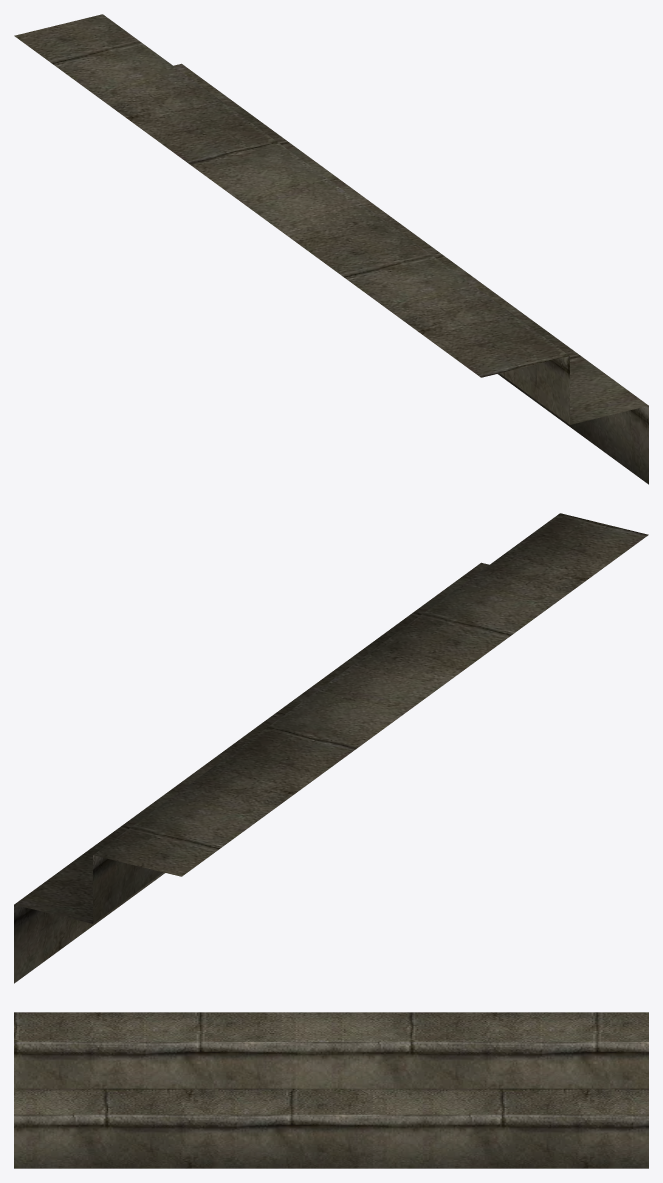
Rendered from OC_LOB_STAIRS_02.glb.
The picture shows the model from 3 angles, top to bottom: view 1: azimuth 30°, elevation 25°; view 2: azimuth 150°, elevation 25°; view 3: azimuth 270°, elevation 25°; orthographic projection. The views are drawn at different scales.
Visible parts, largest first — view 1: Mesh; view 2: Mesh; view 3: Mesh.
Boxes of the visible parts, left/top/right/bottom form: Mesh: left=14, top=14, right=648, bottom=484; Mesh: left=14, top=513, right=648, bottom=983; Mesh: left=14, top=1012, right=648, bottom=1168.
Bounding box in the file's own units: 0.8499 × 0.7161 × 4.1.
Materials: 2 (2 with a texture image).
